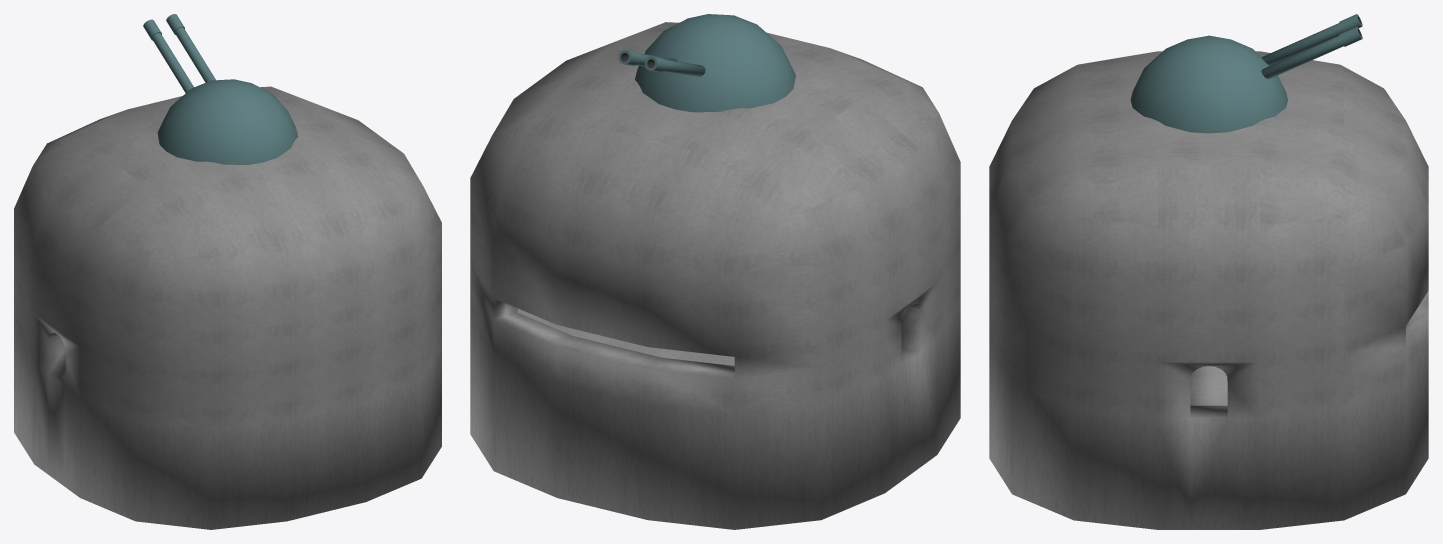
Rendered from Bunker.fbx.
3 views of the same model, side by side, from view 1: azimuth 30°, elevation 25°; view 2: azimuth 150°, elevation 25°; view 3: azimuth 270°, elevation 25° (orthographic). The views are drawn at different scales.
Parts seen in each view (by area): view 1: Bunker, BunkerCanon; view 2: Bunker, BunkerCanon; view 3: Bunker, BunkerCanon.
Part boxes in pixels (left/top/right/bottom): Bunker: left=14, top=86, right=441, bottom=529; BunkerCanon: left=143, top=14, right=297, bottom=164; Bunker: left=470, top=22, right=960, bottom=529; BunkerCanon: left=618, top=14, right=795, bottom=112; Bunker: left=989, top=51, right=1428, bottom=529; BunkerCanon: left=1130, top=14, right=1362, bottom=133.
Size of the model in its own units: 200 by 200 by 209.
